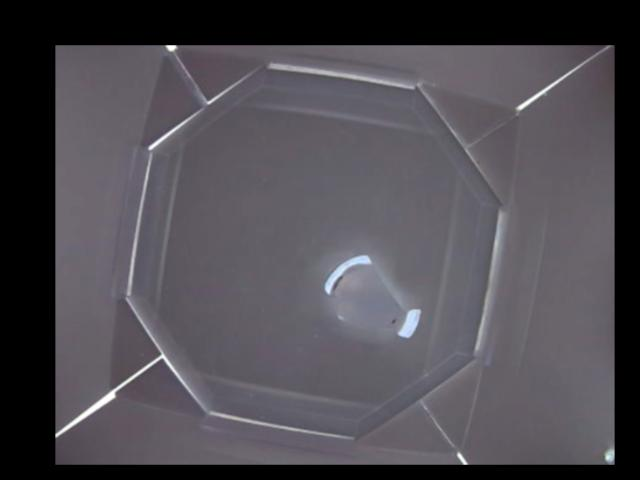China: (327, 254, 423, 339)
